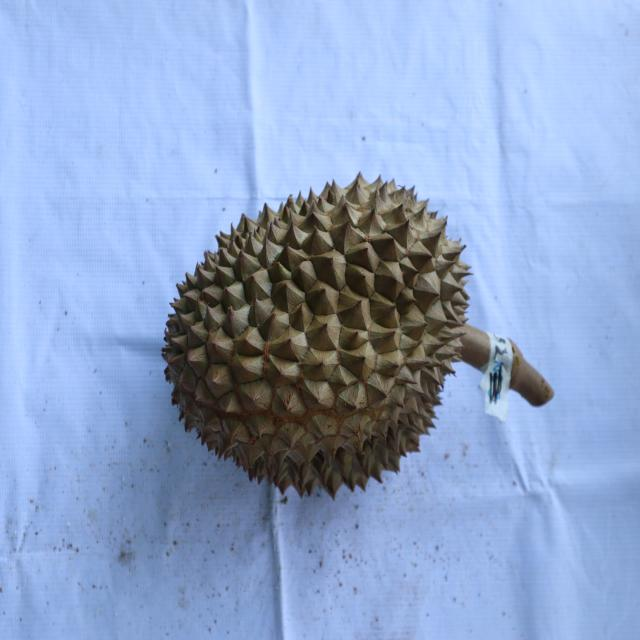mature: (163, 169, 473, 504)
